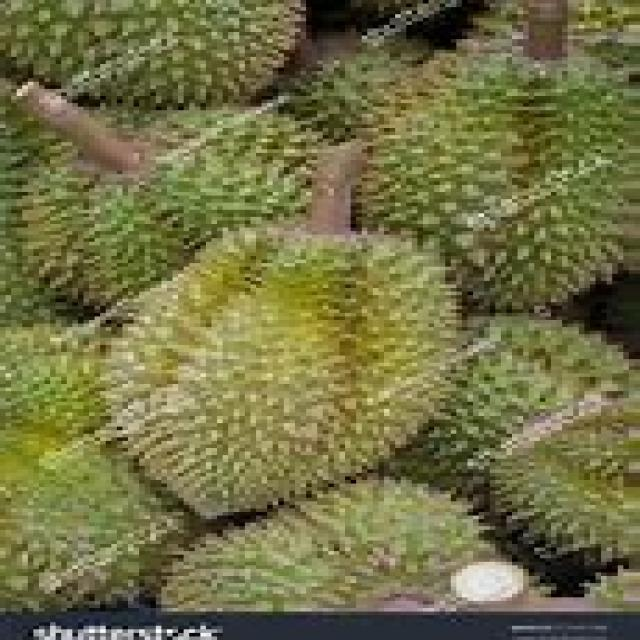immature: (107, 227, 465, 517), (356, 32, 640, 313)
